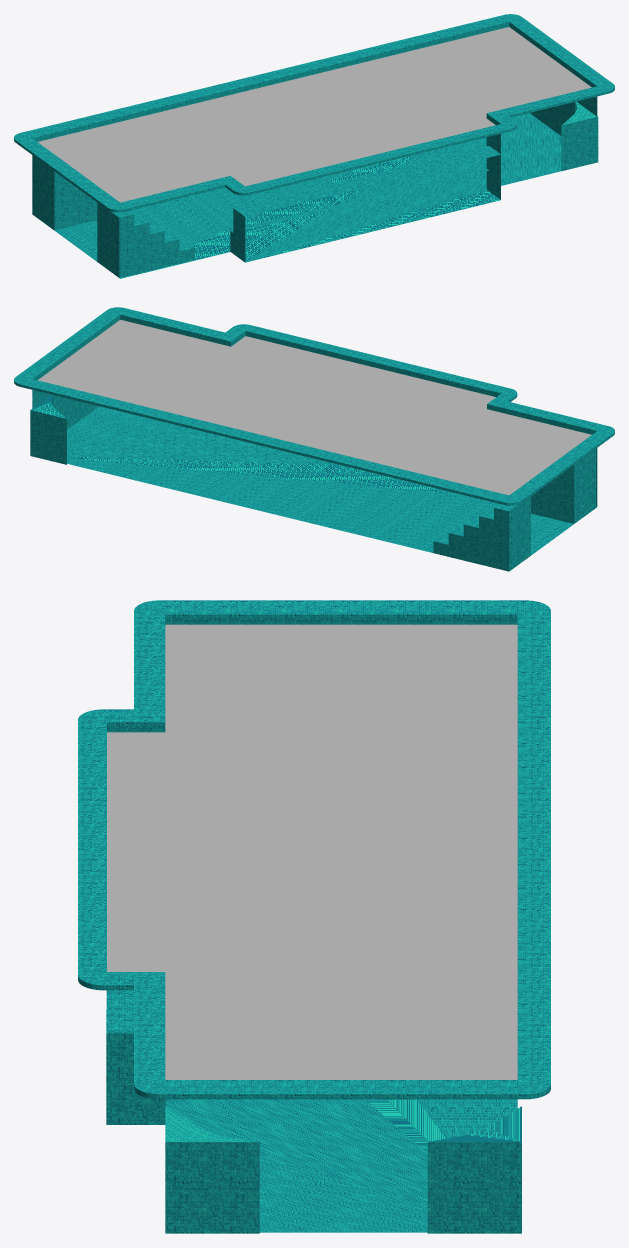
Rendered from asset.gltf.
The picture shows the model from 3 angles, top to bottom: view 1: azimuth 30°, elevation 25°; view 2: azimuth 150°, elevation 25°; view 3: azimuth 270°, elevation 25°; orthographic projection. The views are drawn at different scales.
Parts seen in each view (by area): view 1: uvmap; view 2: uvmap; view 3: uvmap.
Boxes of the visible parts, bbox=[...] form: uvmap: bbox=[14, 14, 614, 278]; uvmap: bbox=[14, 307, 614, 571]; uvmap: bbox=[78, 600, 550, 1233].
Size of the model in its own units: 1042 by 150 by 422.
2 materials, 1 textured.
